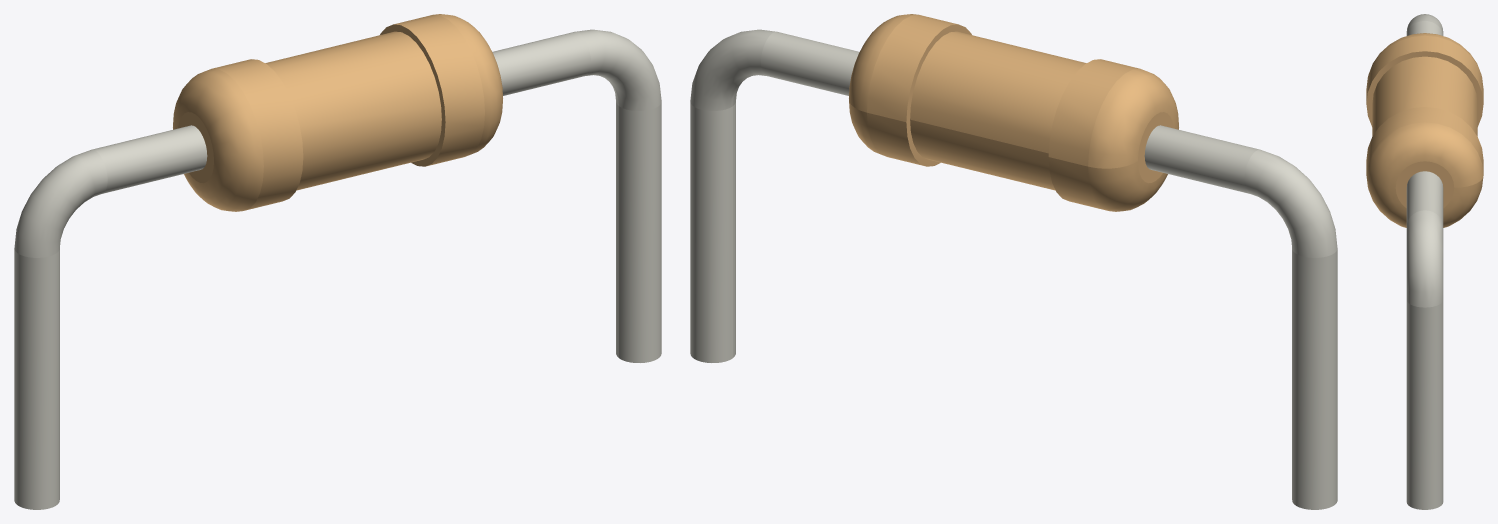
The model's file is kc-r_axial_din0204_l3.6mm_d1.6mm_p7.62mm_horizontal.glb.
3 renders of one model, left to right at view 1: azimuth 30°, elevation 25°; view 2: azimuth 150°, elevation 25°; view 3: azimuth 270°, elevation 25°, orthographic. The views are drawn at different scales.
Visible parts, largest first — view 1: 0.75_0.5_0.16666666666666666_0.9, 0.6666666666666666_0.6666666666666666_0.5833333333333334_0.8; view 2: 0.75_0.5_0.16666666666666666_0.9, 0.6666666666666666_0.6666666666666666_0.5833333333333334_0.8; view 3: 0.75_0.5_0.16666666666666666_0.9, 0.6666666666666666_0.6666666666666666_0.5833333333333334_0.8.
Boxes of the visible parts, <box> form: 0.75_0.5_0.16666666666666666_0.9: <box>173,14,502,211</box>; 0.6666666666666666_0.6666666666666666_0.5833333333333334_0.8: <box>14,29,661,509</box>; 0.75_0.5_0.16666666666666666_0.9: <box>849,14,1178,211</box>; 0.6666666666666666_0.6666666666666666_0.5833333333333334_0.8: <box>690,29,1337,509</box>; 0.75_0.5_0.16666666666666666_0.9: <box>1366,33,1483,227</box>; 0.6666666666666666_0.6666666666666666_0.5833333333333334_0.8: <box>1406,14,1443,509</box>.
Size of the model in its own units: 0.812 by 0.46 by 0.16.
